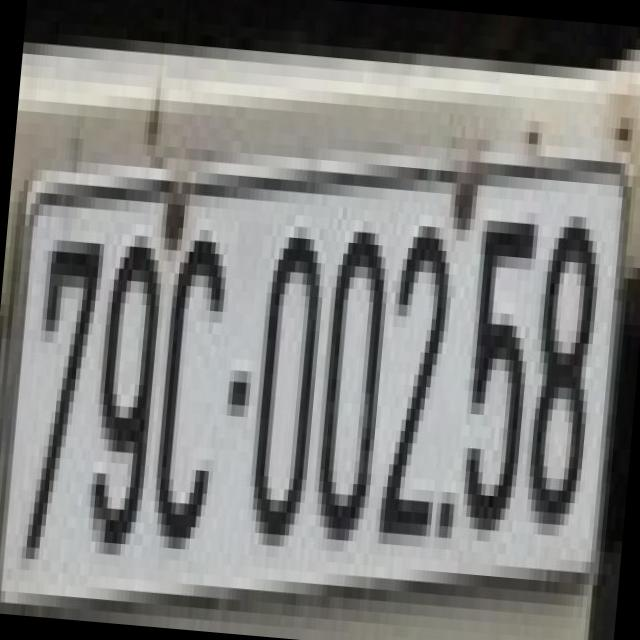0: (296, 194, 396, 542), (237, 212, 325, 536)
2: (361, 199, 463, 536)
5: (443, 172, 547, 532)
7: (3, 202, 103, 562)
8: (506, 178, 606, 538)
9: (68, 197, 168, 557)
C: (133, 192, 241, 552)
